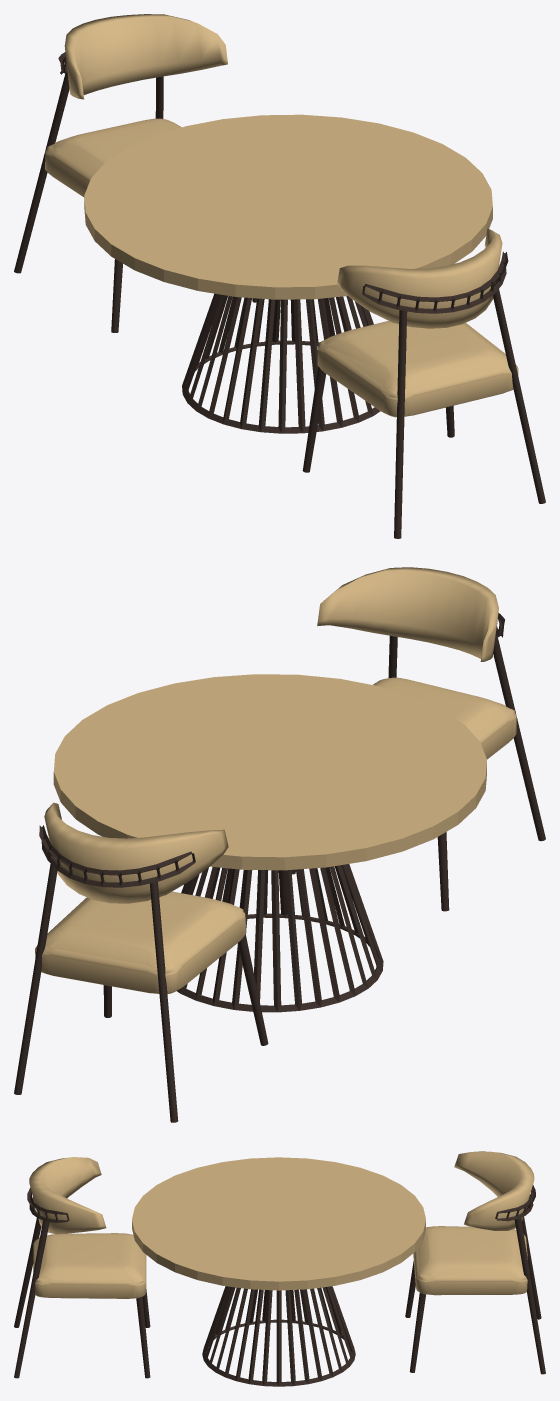
File: TableChair.glb
3 views of the same model, one above another, from view 1: azimuth 30°, elevation 25°; view 2: azimuth 150°, elevation 25°; view 3: azimuth 270°, elevation 25° (orthographic). The views are drawn at different scales.
Parts seen in each view (by area): view 1: Circle, Cube, Circle.001, Circle.005, Circle.003, Cylinder, Cube.001, Cylinder.001, Circle.002; view 2: Circle, Cube.001, Circle.001, Circle.003, Circle.005, Cylinder.001, Cube, Cylinder, Circle.004; view 3: Circle, Circle.001, Cube.001, Cube, Circle.005, Circle.003, Cylinder, Cylinder.001, Circle.002, Circle.004.
Boxes of the visible parts, x1,y1,x2,y2 form: Circle: (84, 114, 492, 299); Cube: (317, 321, 518, 417); Circle.001: (182, 293, 380, 433); Circle.005: (64, 14, 227, 99); Circle.003: (337, 228, 502, 328); Cylinder: (302, 289, 545, 538); Cube.001: (45, 118, 181, 197); Cylinder.001: (14, 72, 256, 332); Circle.002: (362, 251, 508, 313); Circle: (53, 674, 486, 870); Cube.001: (35, 891, 246, 994); Circle.001: (177, 864, 383, 1012); Circle.003: (317, 567, 498, 661); Circle.005: (44, 802, 228, 903); Cylinder.001: (14, 862, 268, 1122); Cube: (373, 677, 516, 759); Cylinder: (291, 634, 545, 911); Circle.004: (39, 825, 195, 887); Circle: (132, 1157, 425, 1290); Circle.001: (202, 1286, 355, 1386); Cube.001: (413, 1226, 527, 1295); Cube: (33, 1233, 146, 1298); Circle.005: (454, 1151, 534, 1230); Circle.003: (29, 1157, 106, 1234); Cylinder: (14, 1218, 150, 1378); Cylinder.001: (405, 1216, 545, 1374); Circle.002: (27, 1187, 69, 1222); Circle.004: (495, 1185, 535, 1221).
Size of the model in its own units: 2.12 by 1.44 by 3.84.
